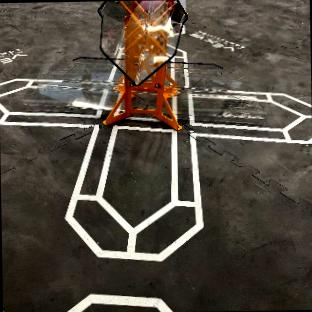Goal: (98, 0, 186, 129)
